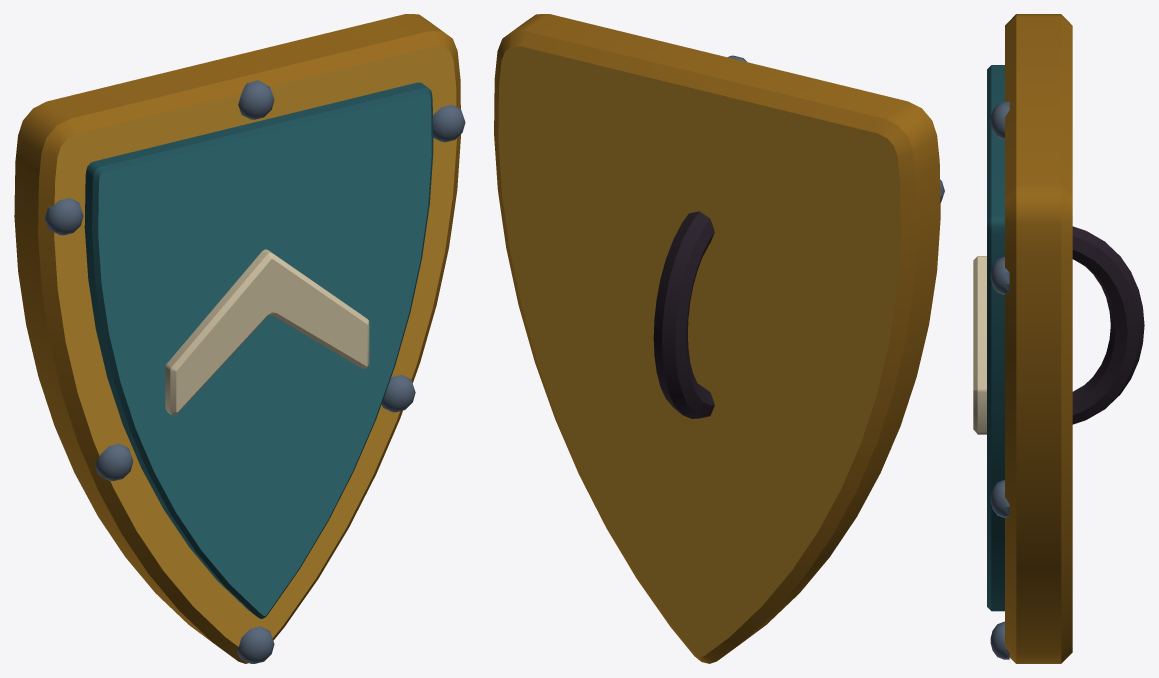
The model's file is HeaterShield_04.glb.
The picture shows the model from 3 angles, left to right: view 1: azimuth 30°, elevation 25°; view 2: azimuth 150°, elevation 25°; view 3: azimuth 270°, elevation 25°; orthographic projection. The views are drawn at different scales.
Parts seen in each view (by area): view 1: HeaterShield_04; view 2: HeaterShield_04; view 3: HeaterShield_04.
Part boxes in pixels (bbox=[...]): HeaterShield_04: bbox=[14, 14, 465, 663]; HeaterShield_04: bbox=[494, 14, 944, 663]; HeaterShield_04: bbox=[973, 14, 1144, 663].
Bounding box in the file's own units: 2.07 × 2.75 × 0.76.
